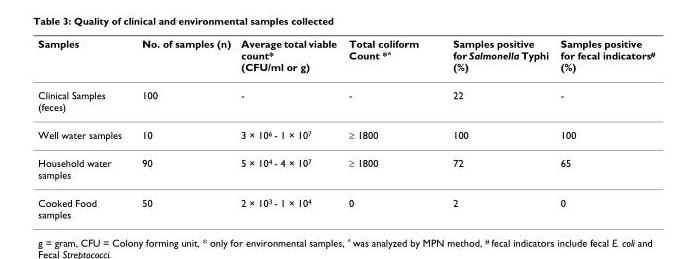table: (37, 37, 654, 219)
table column: (435, 37, 553, 219), (235, 37, 342, 219), (131, 37, 235, 219), (553, 37, 654, 219), (37, 37, 131, 219), (342, 37, 435, 219)
table column header: (37, 37, 654, 80)
table row: (37, 37, 654, 80), (37, 148, 654, 188), (37, 80, 654, 119), (37, 188, 654, 219), (37, 119, 654, 148)
